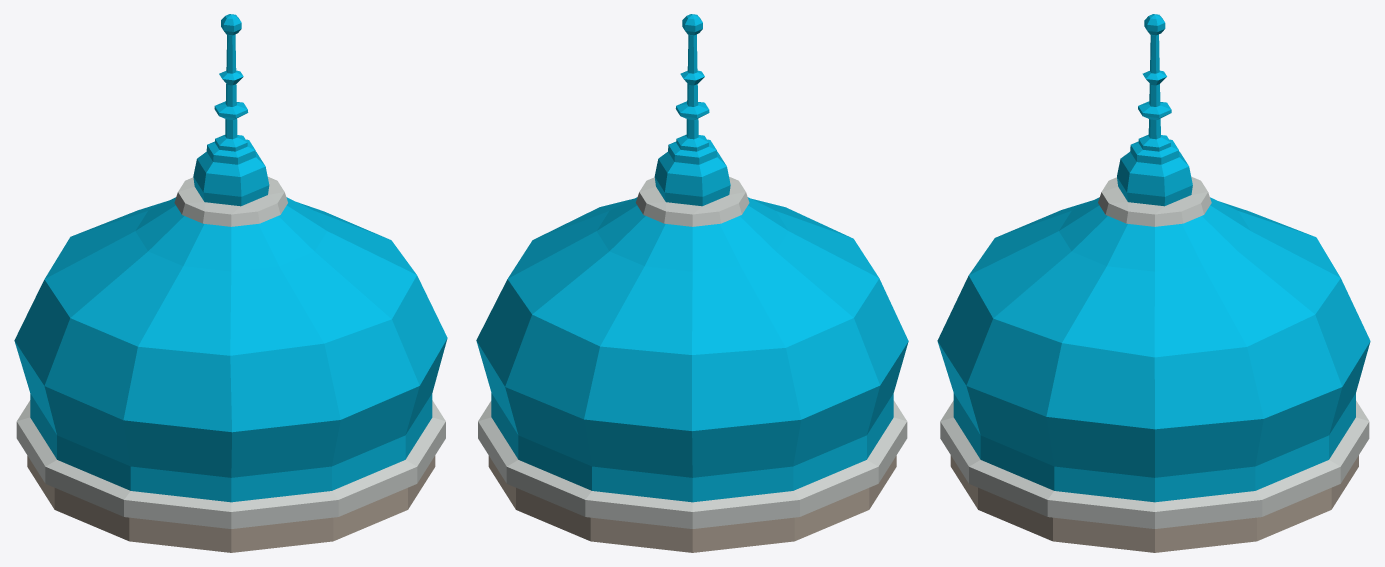
File: SM_Bld_Roof_Cap_01.fbx
The picture shows the model from 3 angles, left to right: view 1: azimuth 30°, elevation 25°; view 2: azimuth 150°, elevation 25°; view 3: azimuth 270°, elevation 25°; orthographic projection.
Parts seen in each view (by area): view 1: SM_Bld_Roof_Cap_01; view 2: SM_Bld_Roof_Cap_01; view 3: SM_Bld_Roof_Cap_01.
Part boxes in pixels (bbox=[...]): SM_Bld_Roof_Cap_01: bbox=[14, 14, 447, 552]; SM_Bld_Roof_Cap_01: bbox=[476, 14, 908, 552]; SM_Bld_Roof_Cap_01: bbox=[937, 14, 1370, 552].
Bounding box in the file's own units: 606 × 698 × 606.
